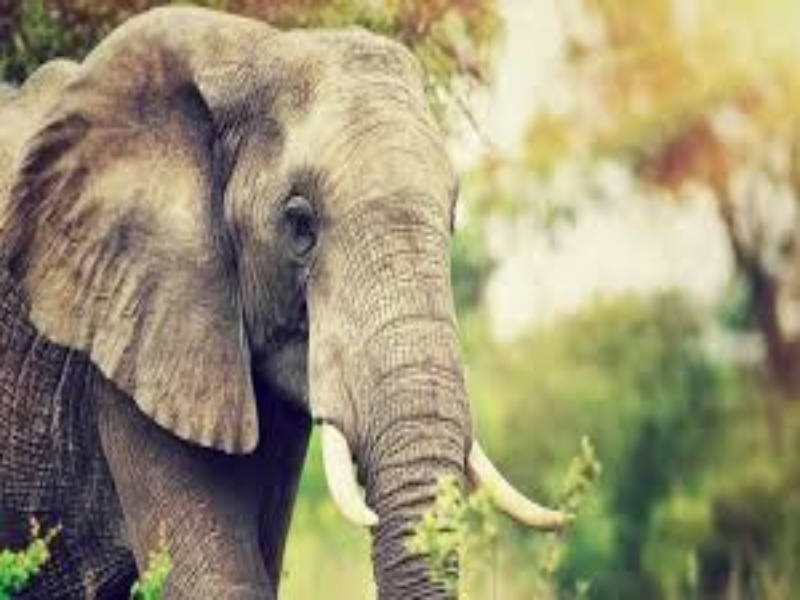elephant: (7, 16, 632, 600)
